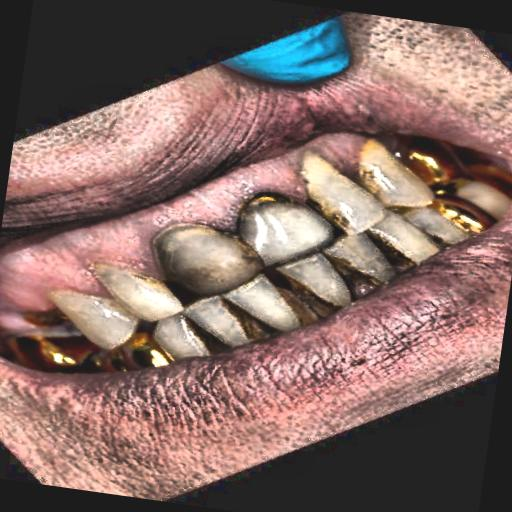Calculus: (166, 158, 396, 383), (312, 116, 494, 290), (0, 253, 169, 426)
